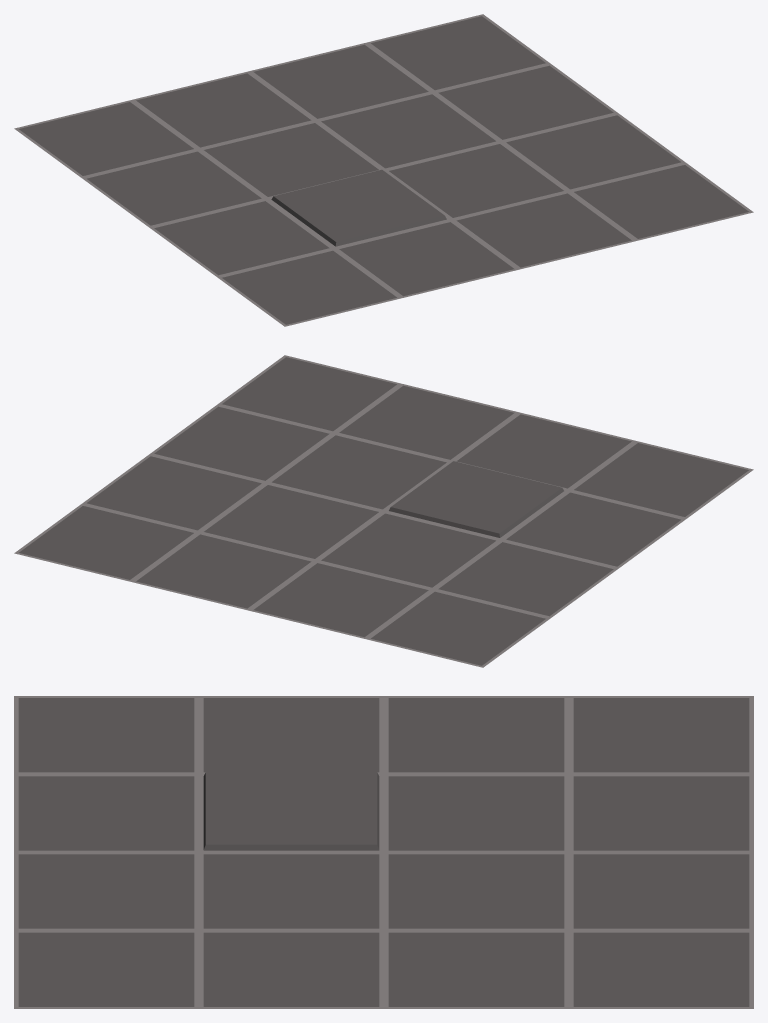
Rendered from scifi-floor.glb.
3 views of the same model, one above another, from view 1: azimuth 30°, elevation 25°; view 2: azimuth 150°, elevation 25°; view 3: azimuth 270°, elevation 25° (orthographic). The views are drawn at different scales.
Visible parts, largest first — view 1: scifi-floor; view 2: scifi-floor; view 3: scifi-floor.
Boxes of the visible parts, x1,y1,x2,y2 form: scifi-floor: (14, 14, 753, 326); scifi-floor: (14, 355, 753, 667); scifi-floor: (14, 696, 753, 1008).
Bounding box in the file's own units: 4 × 0.03 × 4.
1 material, 1 textured.
